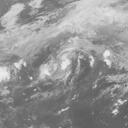cyclone: (35, 39, 98, 95)
